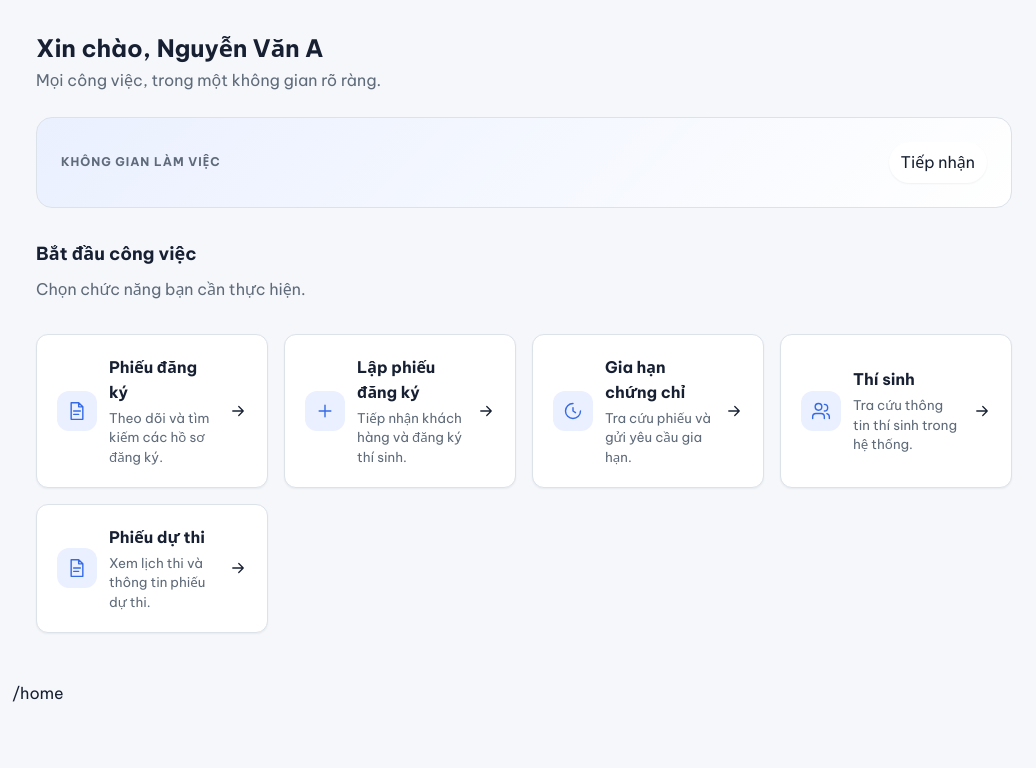
Scenario: shows only the signed-in role actions and opens the selected workspace
Expected: the heading "Xin chào, Nguyễn Văn A" is shown, [36, 33, 324, 63]
Expected: the button "Lập phiếu đăng ký" is shown, [284, 334, 516, 488]
Click the button "Gia hạn chứng chỉ".
click(648, 411)  # box [532, 334, 764, 488]
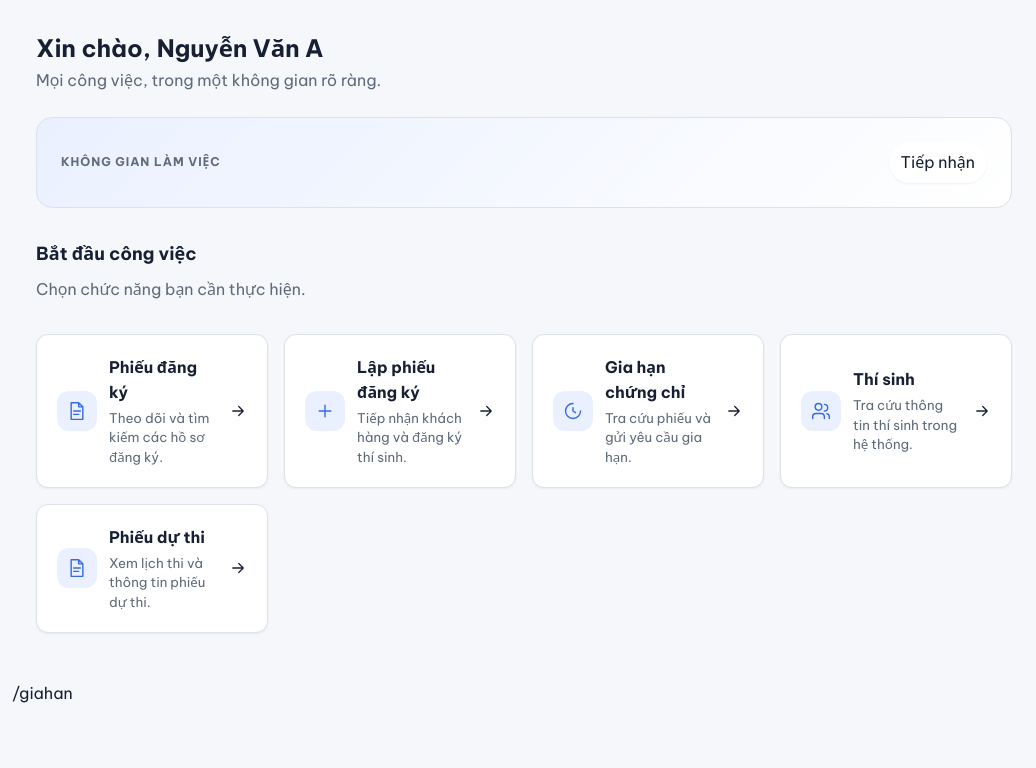
Expected: the text with test id "pathname" reads "/giahan", [12, 683, 73, 703]
